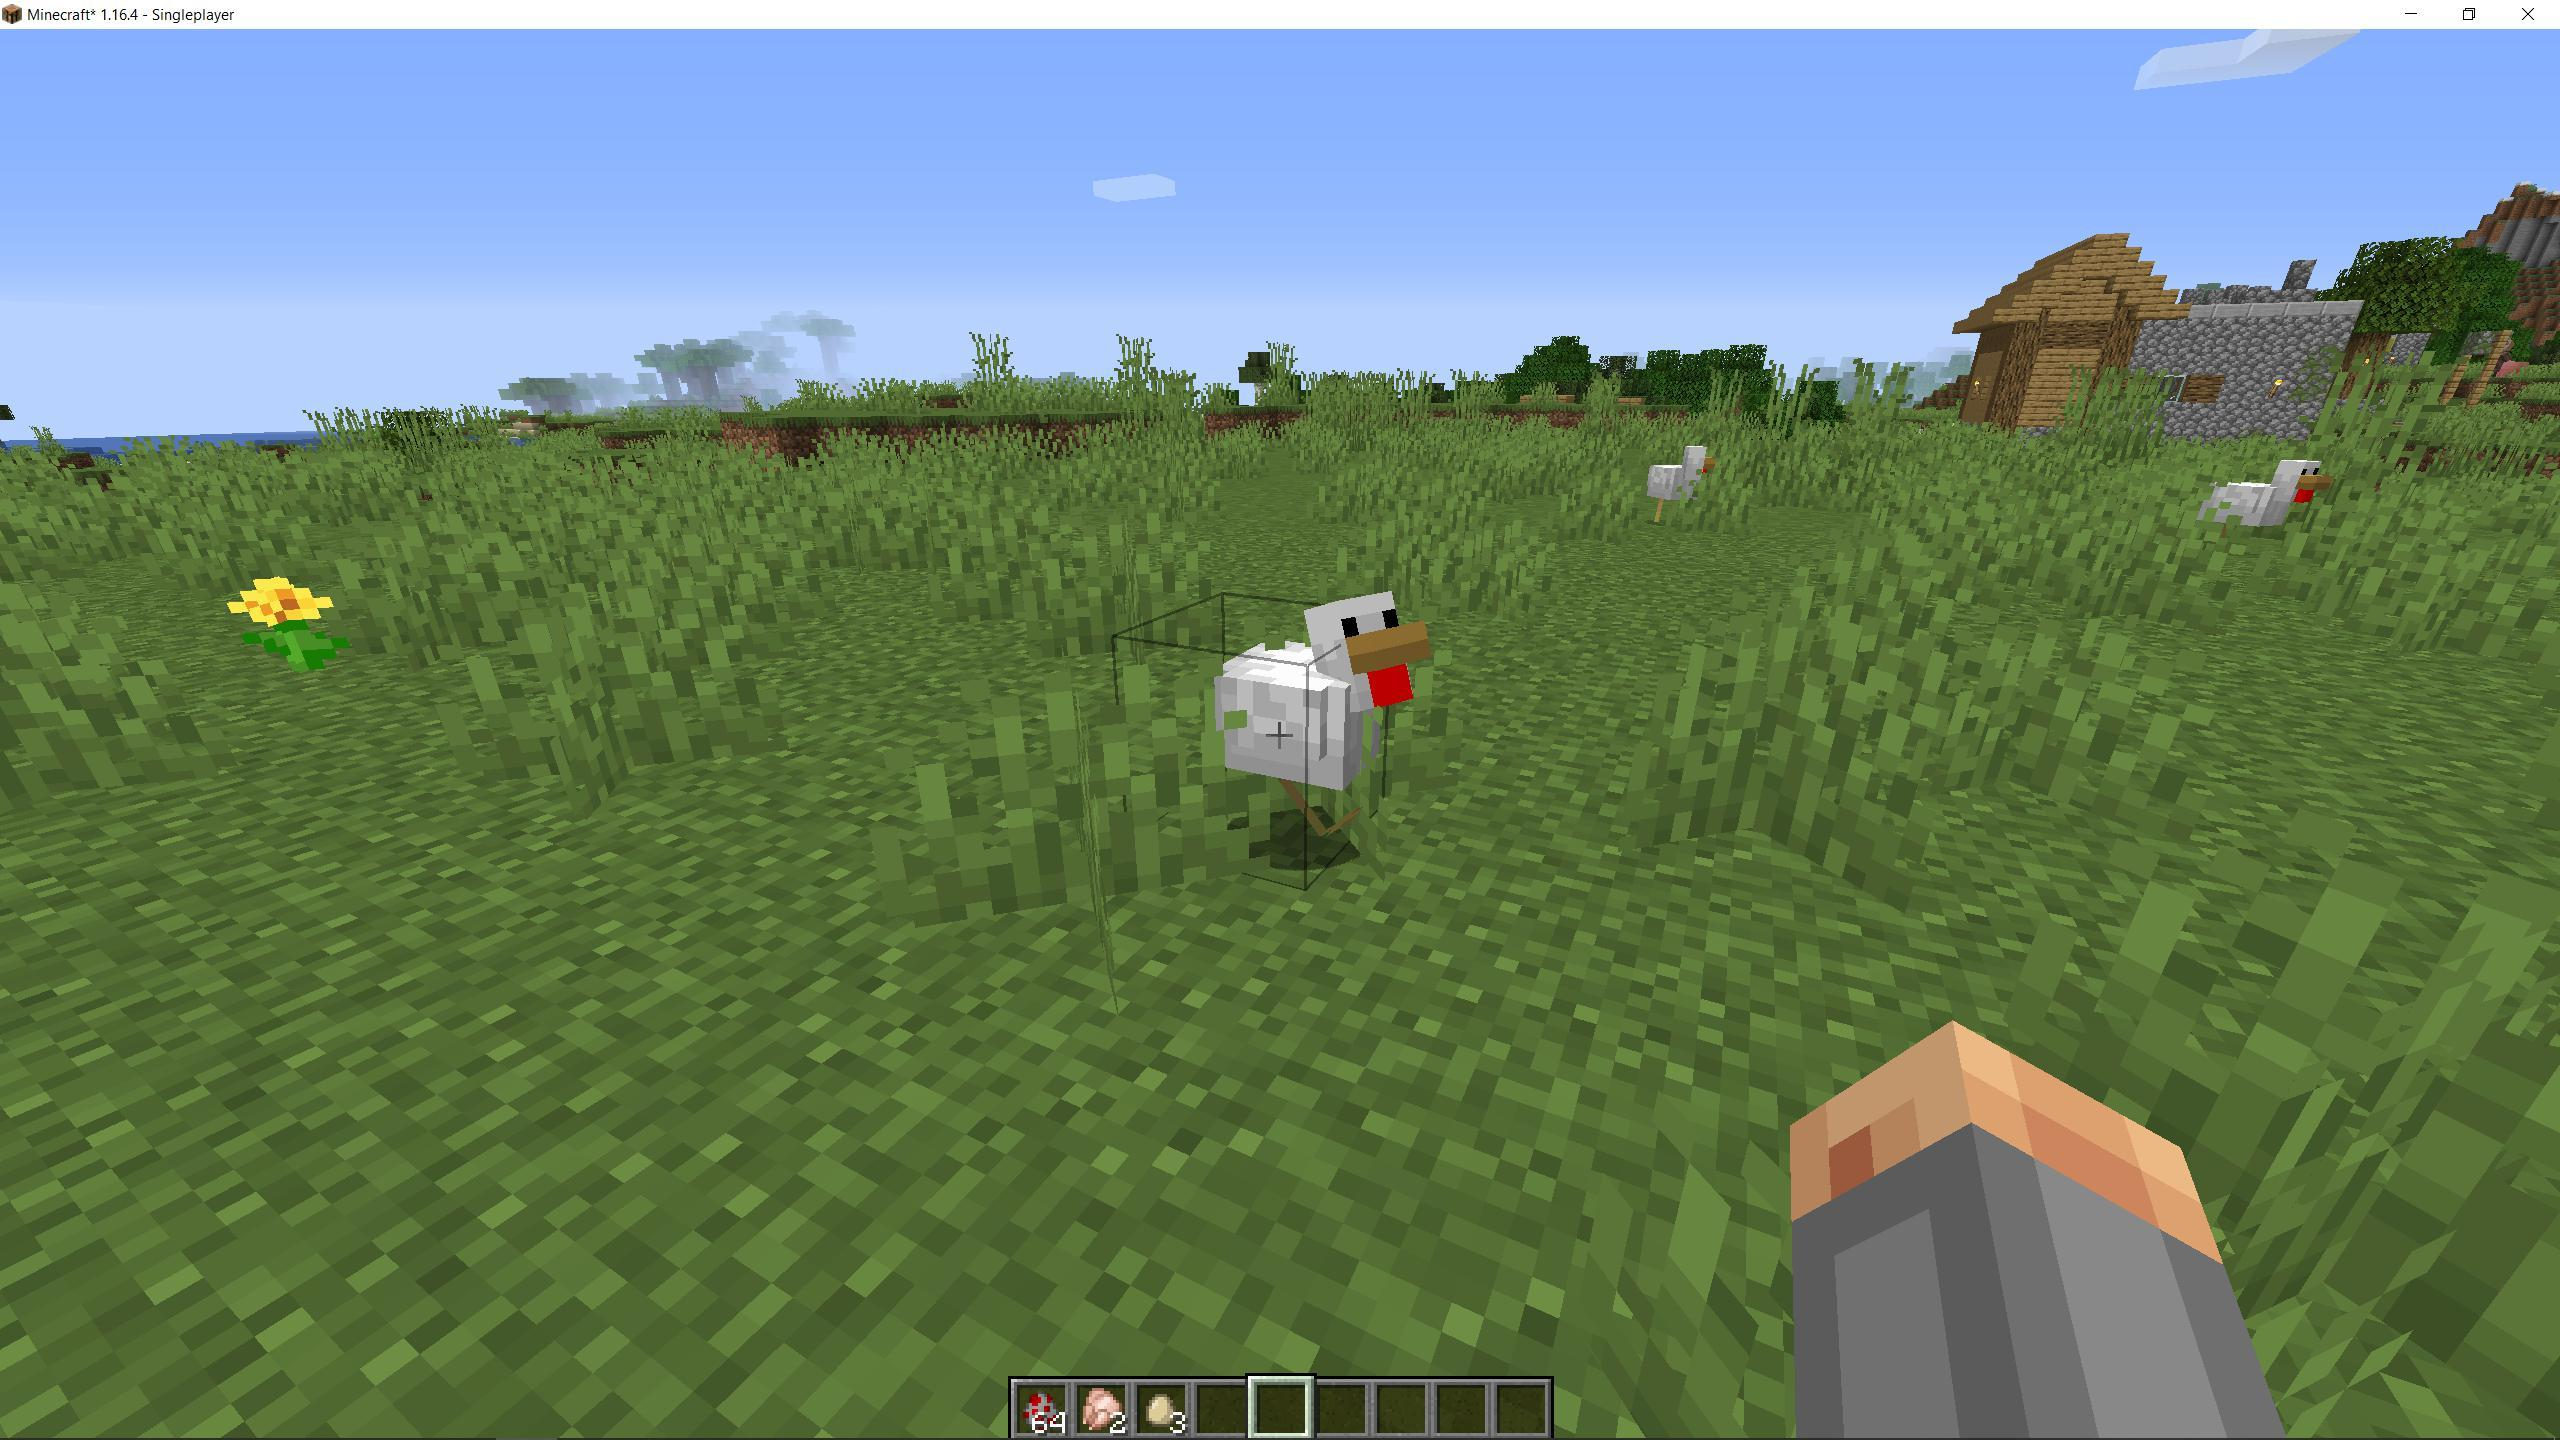chicken: (1213, 566, 1442, 860), (2184, 447, 2338, 577), (1640, 433, 1728, 542)
